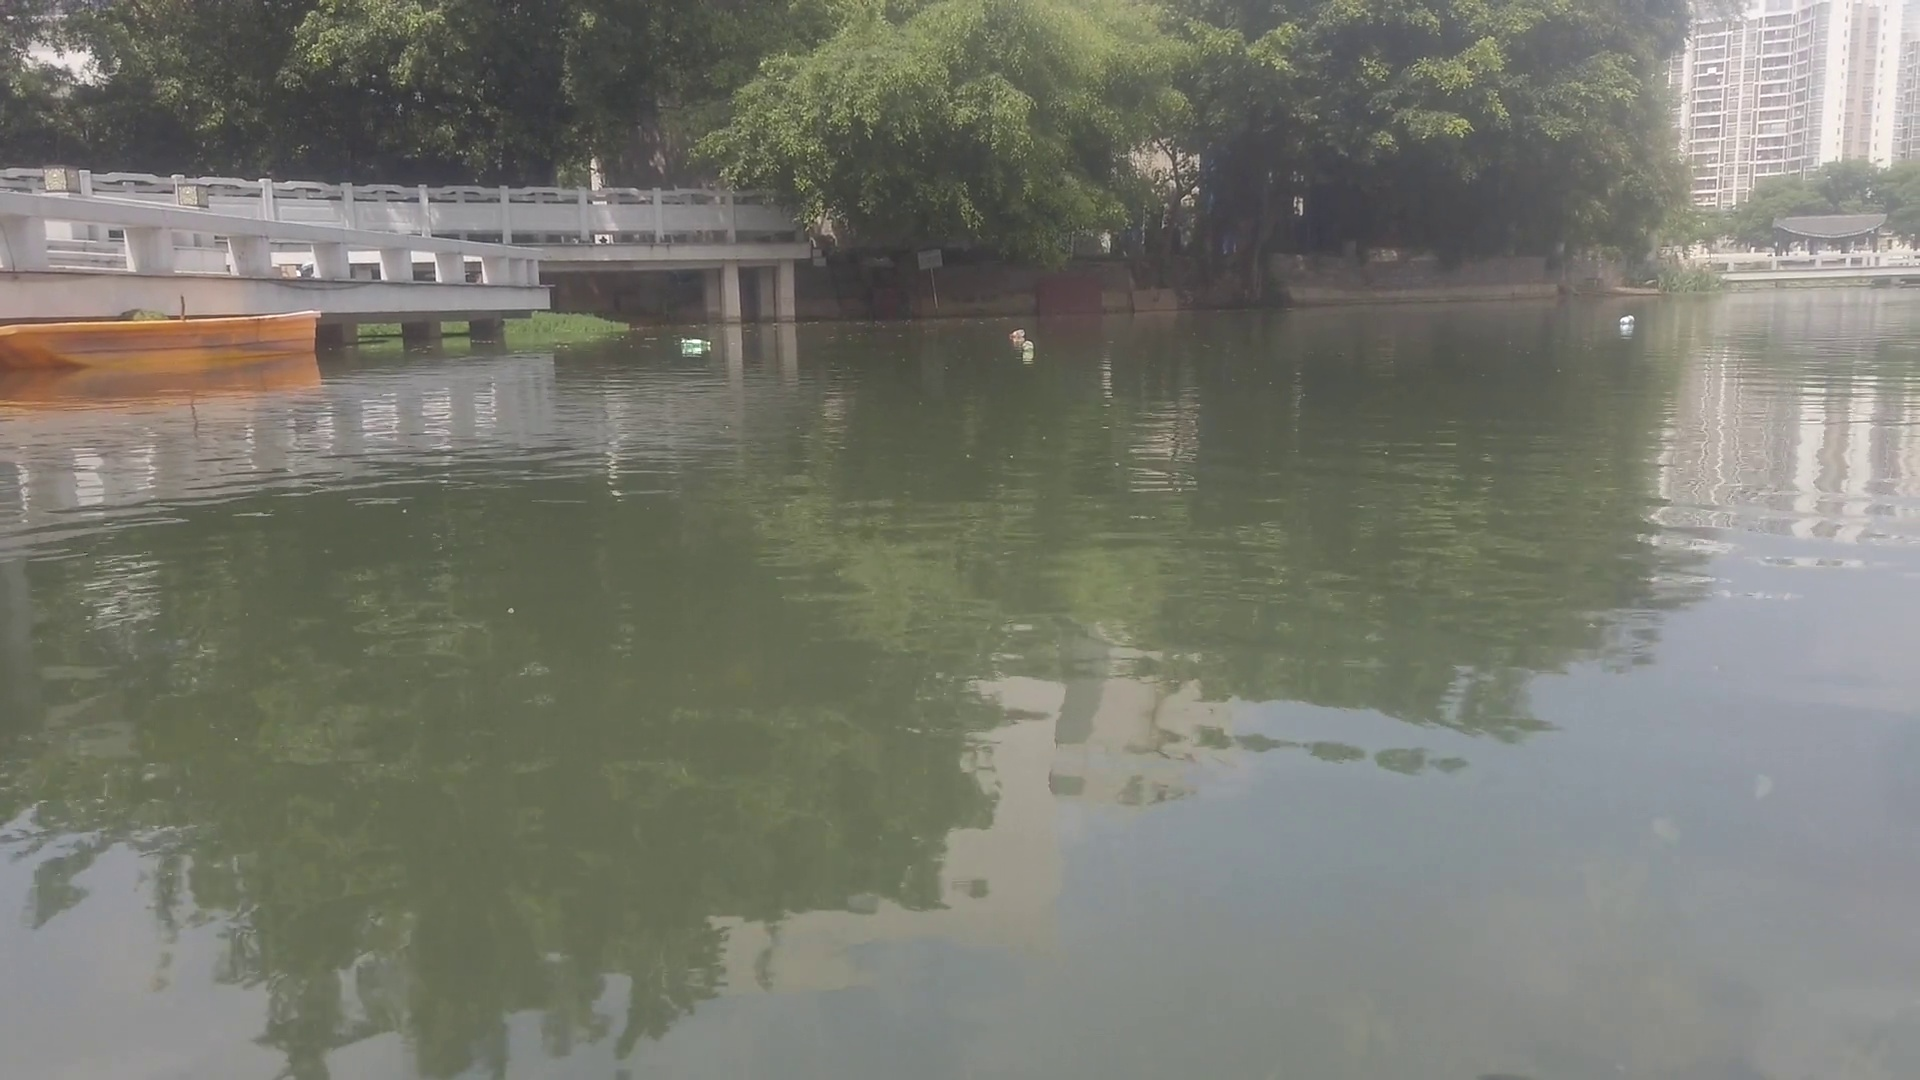bottle: (679, 335, 708, 345), (1613, 313, 1638, 324), (1021, 338, 1035, 355), (1006, 326, 1023, 339)
